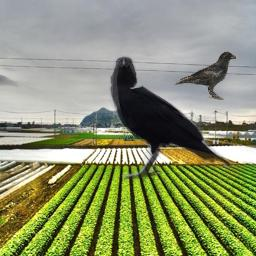Crow: (108, 55, 233, 179), (174, 51, 236, 100)
